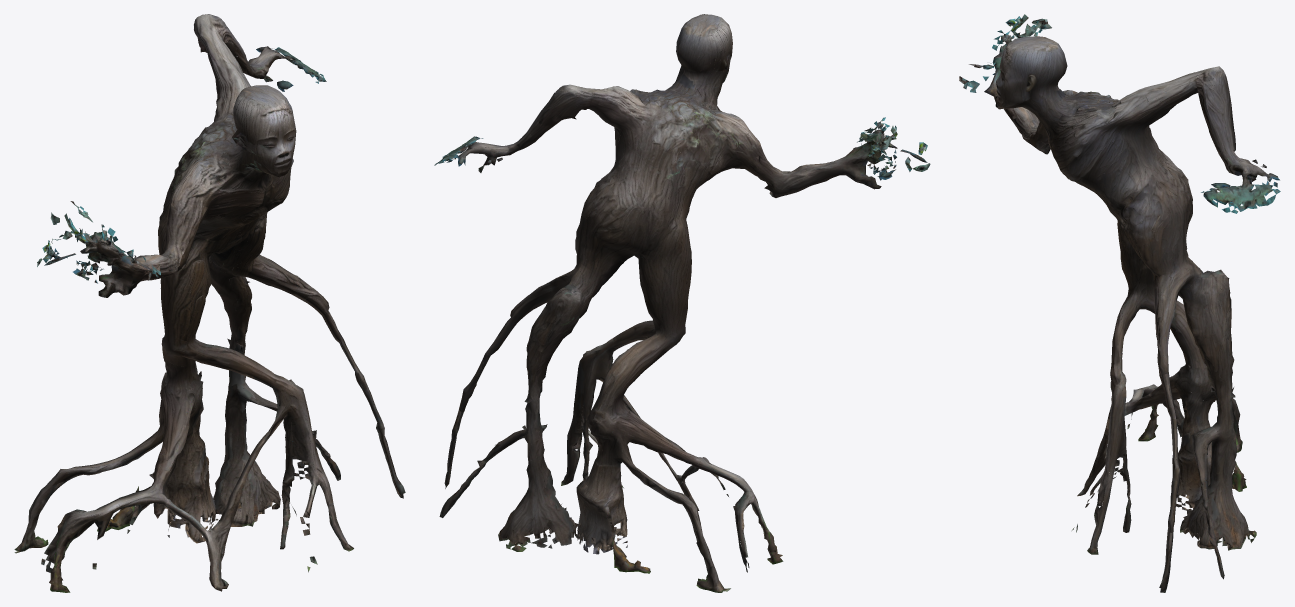
Rendered from jungle_gurdian.glb.
3 renders of one model, left to right at view 1: azimuth 30°, elevation 25°; view 2: azimuth 150°, elevation 25°; view 3: azimuth 270°, elevation 25°, orthographic. The views are drawn at different scales.
Parts seen in each view (by area): view 1: Mesh_0.004; view 2: Mesh_0.004; view 3: Mesh_0.004.
Part boxes in pixels (<box>): Mesh_0.004: <box>14,14,405,592</box>; Mesh_0.004: <box>434,14,930,592</box>; Mesh_0.004: <box>959,14,1280,592</box>.
Size of the model in its own units: 5.09 by 5.57 by 3.51.
1 material, 1 textured.
